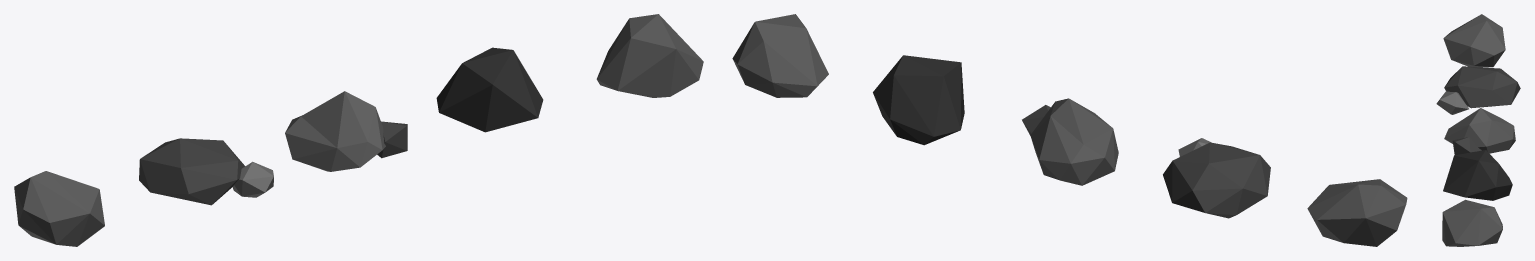
Rendered from medium-rocks.fbx.
3 views of the same model, side by side, from view 1: azimuth 30°, elevation 25°; view 2: azimuth 150°, elevation 25°; view 3: azimuth 270°, elevation 25° (orthographic). The views are drawn at different scales.
Parts seen in each view (by area): view 1: rock_md_03, rock_md_04, rock_md_02, rock_md_01, rock_md_05; view 2: rock_md_02, rock_md_04, rock_md_03, rock_md_01, rock_md_05; view 3: rock_md_04, rock_md_02, rock_md_05, rock_md_01, rock_md_03.
Part boxes in pixels (<box>): rock_md_03: <box>285,91,407,171</box>; rock_md_04: <box>139,138,273,205</box>; rock_md_02: <box>436,47,543,132</box>; rock_md_01: <box>596,14,703,97</box>; rock_md_05: <box>14,171,104,246</box>; rock_md_02: <box>873,55,964,145</box>; rock_md_04: <box>1163,138,1270,218</box>; rock_md_03: <box>1022,98,1118,185</box>; rock_md_01: <box>732,14,828,97</box>; rock_md_05: <box>1307,179,1407,246</box>; rock_md_04: <box>1436,66,1520,114</box>; rock_md_02: <box>1443,150,1512,200</box>; rock_md_05: <box>1443,14,1505,67</box>; rock_md_01: <box>1442,199,1502,246</box>; rock_md_03: <box>1444,108,1515,155</box>.
Bounding box in the file's own units: 795 × 88.32 × 132.
